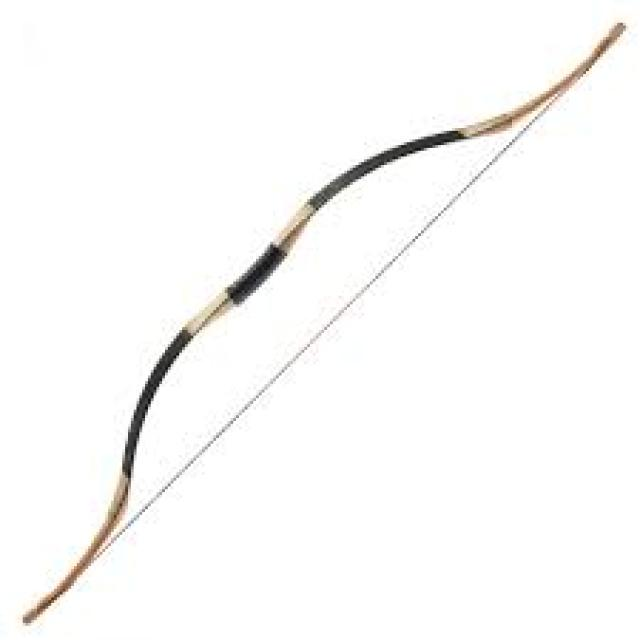X-Bow: (18, 17, 628, 631)
